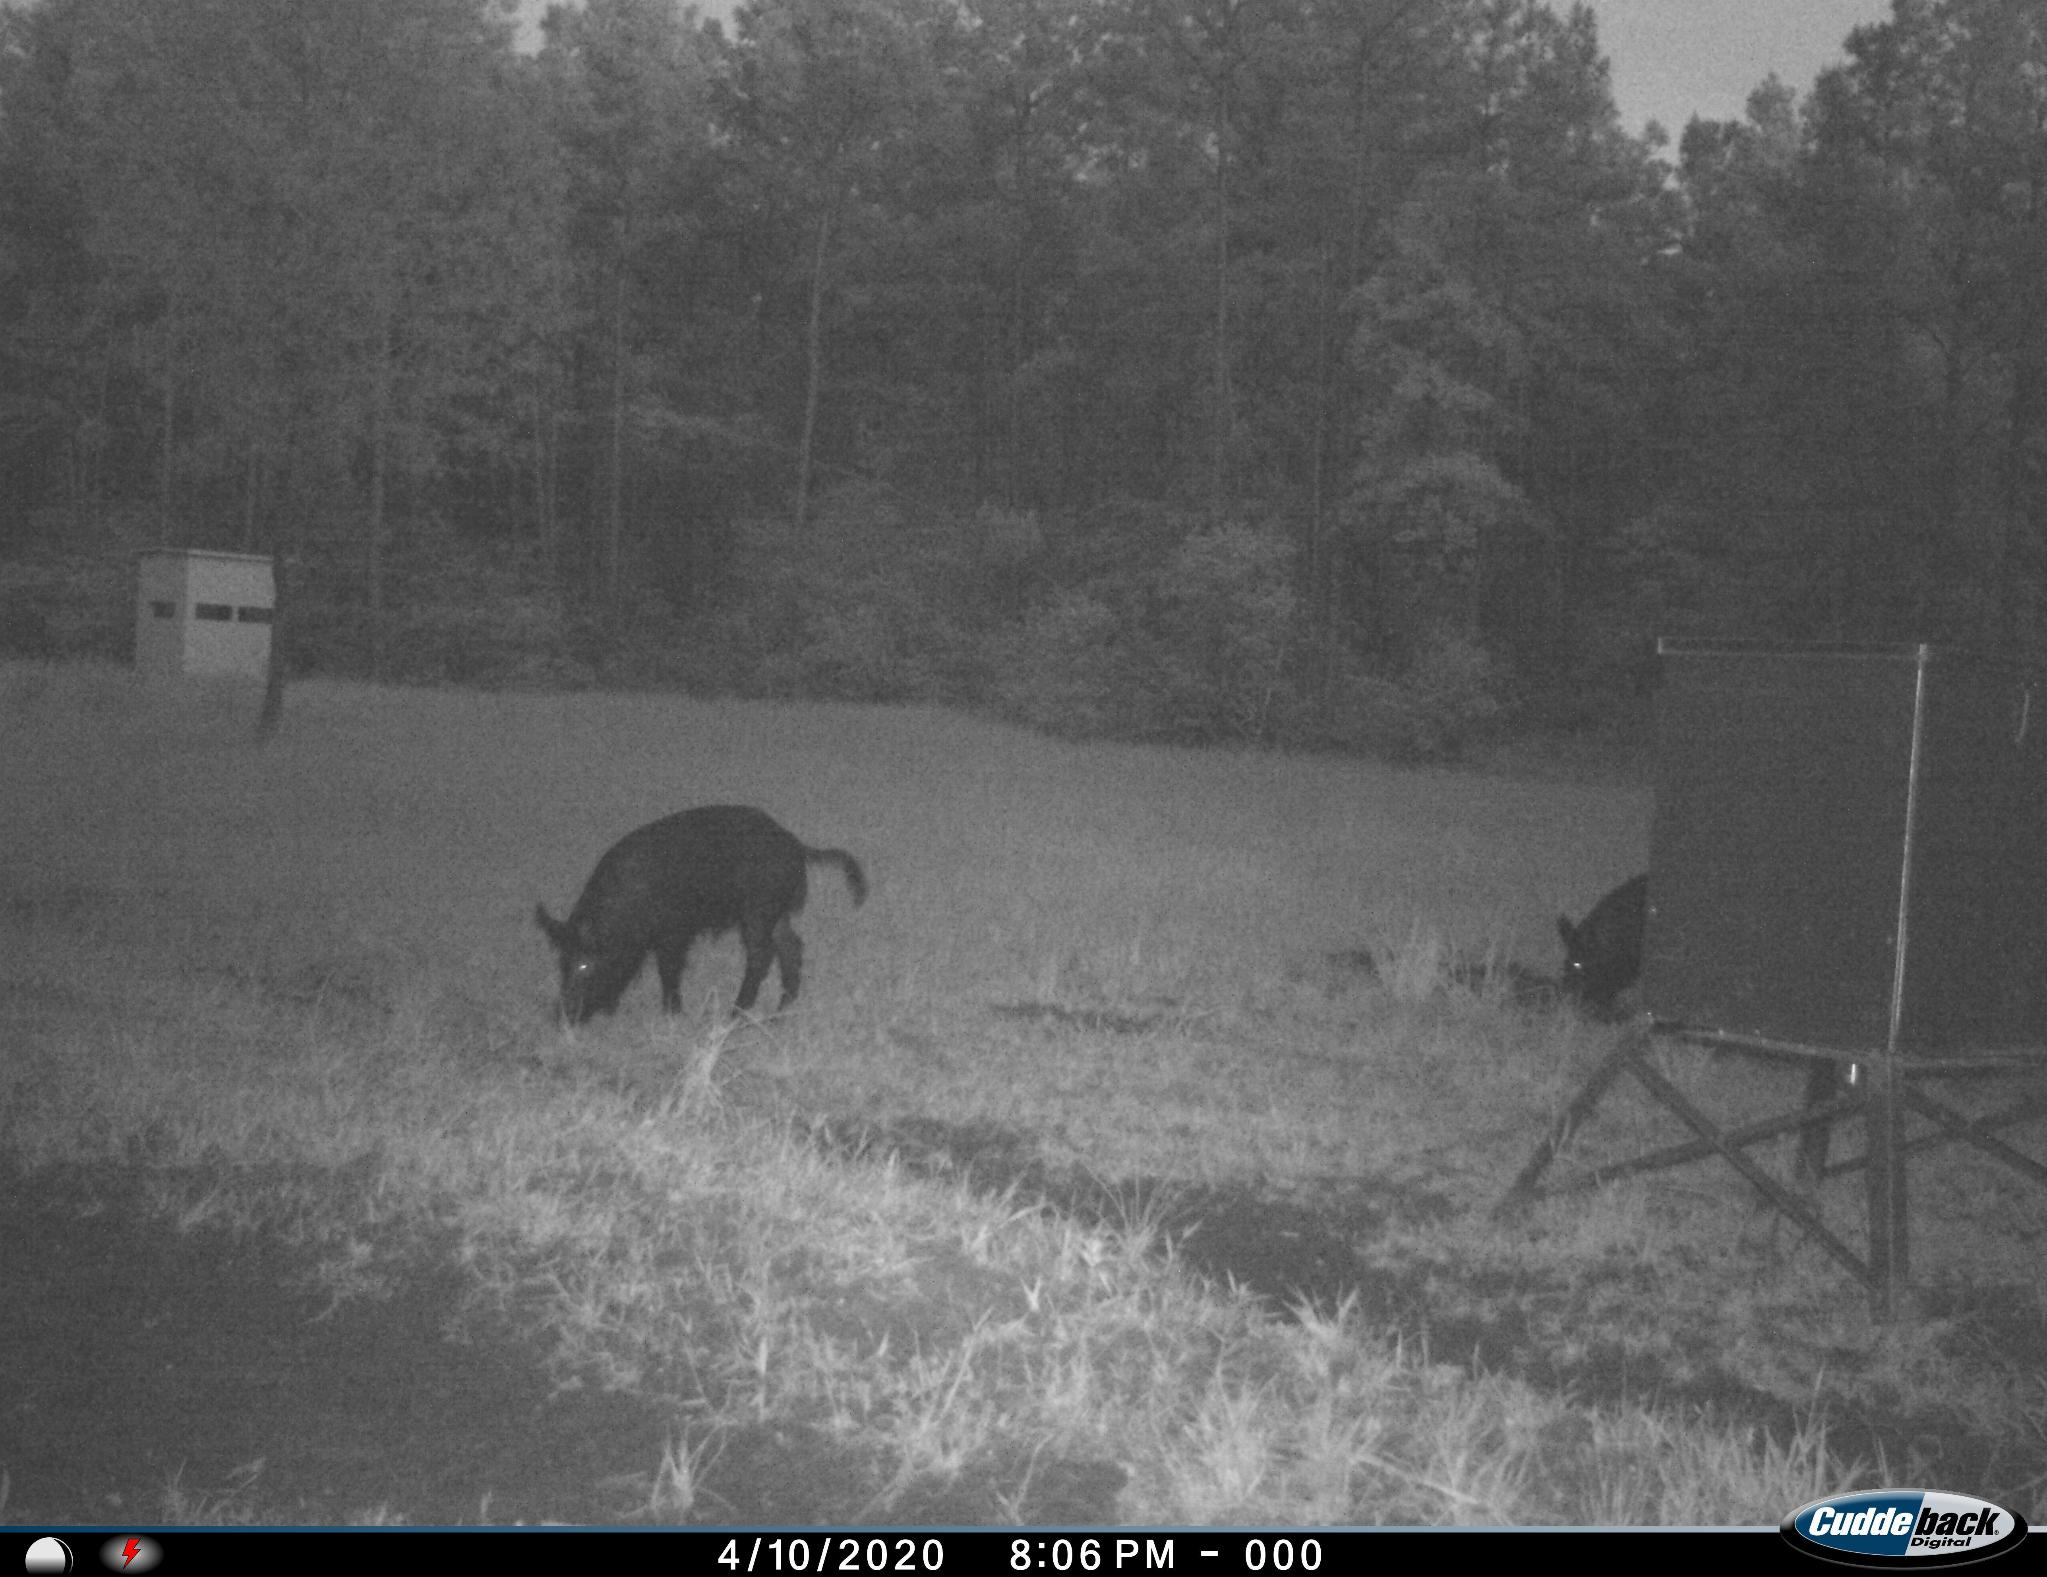Hog: (523, 792, 878, 1039), (1553, 865, 1651, 1029)
